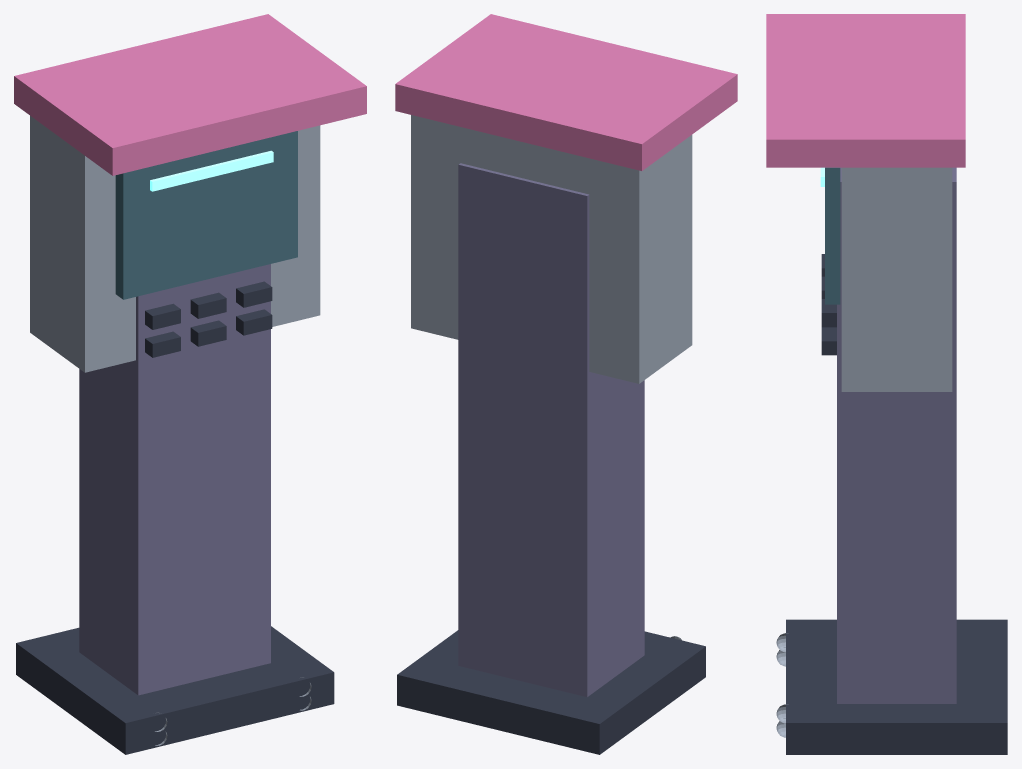
Rendered from neon-dispatch-parcel-pickup-terminal__184.glb.
The picture shows the model from 3 angles, left to right: view 1: azimuth 30°, elevation 25°; view 2: azimuth 150°, elevation 25°; view 3: azimuth 270°, elevation 25°; orthographic projection. The views are drawn at different scales.
Parts seen in each view (by area): view 1: shell, accent, metal, dark, glass, light; view 2: shell, metal, accent, dark; view 3: shell, accent, metal, dark, glass.
Part boxes in pixels (left/top/right/bottom): shell: left=79, top=264, right=270, bottom=695; accent: left=14, top=14, right=366, bottom=175; metal: left=30, top=116, right=320, bottom=745; dark: left=16, top=281, right=334, bottom=754; glass: left=115, top=131, right=297, bottom=299; light: left=150, top=150, right=273, bottom=191; shell: left=458, top=163, right=644, bottom=697; metal: left=411, top=115, right=692, bottom=640; accent: left=395, top=14, right=737, bottom=170; dark: left=397, top=630, right=705, bottom=754; shell: left=837, top=167, right=956, bottom=703; accent: left=766, top=14, right=965, bottom=167; metal: left=776, top=167, right=952, bottom=737; dark: left=786, top=254, right=1007, bottom=754; glass: left=825, top=167, right=840, bottom=304.
Size of the model in its own units: 0.67 by 1.56 by 0.545.
